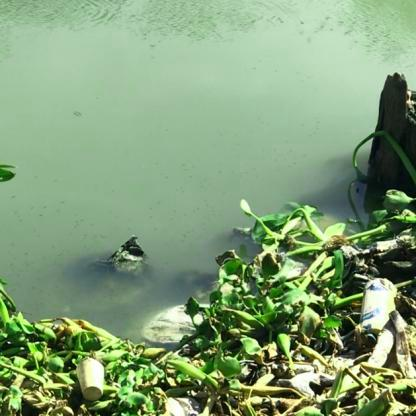Plastic: (72, 354, 106, 401)
